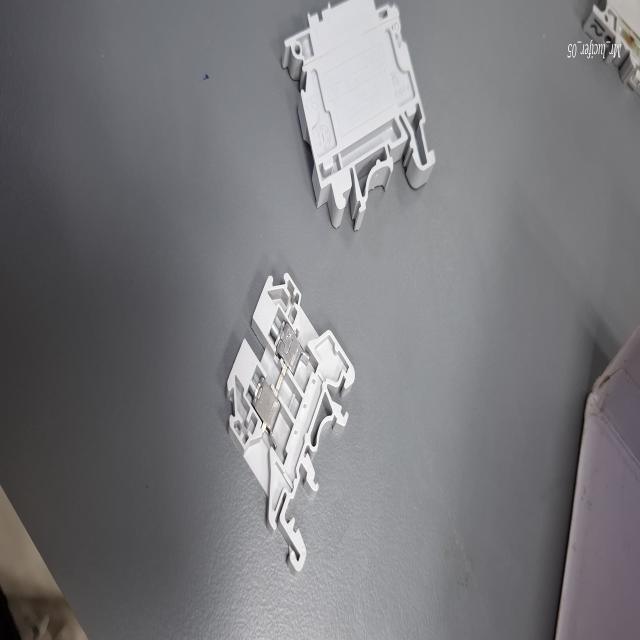Pass: (225, 268, 355, 577)
